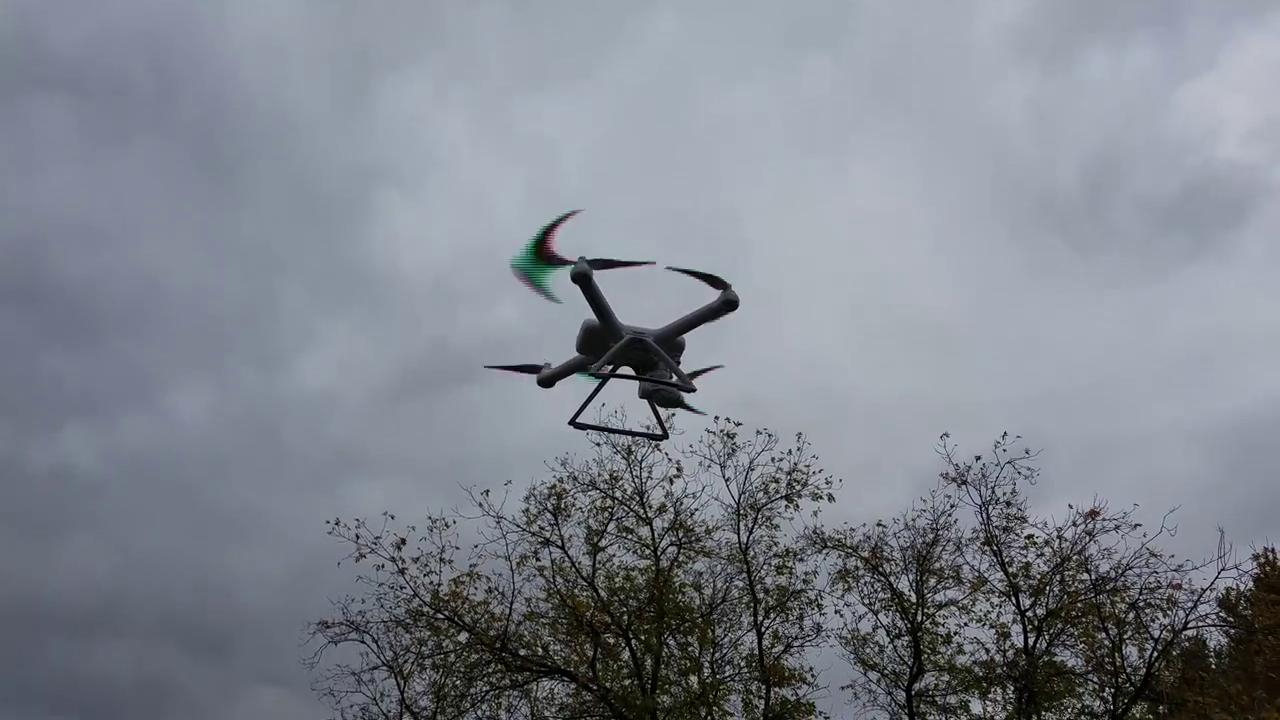drone: (463, 207, 740, 438)
